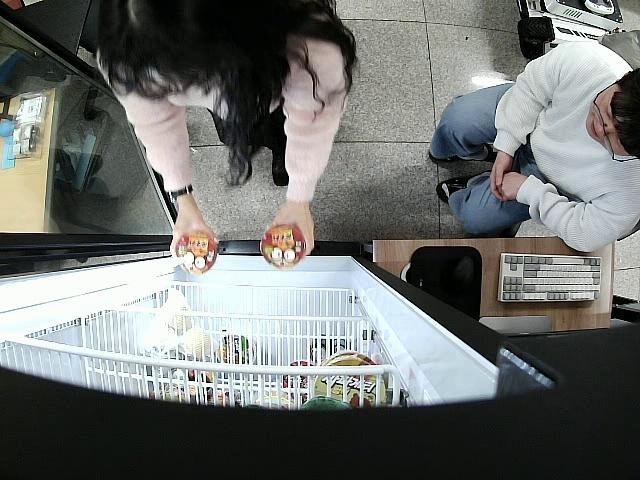06_nuguri_S: (260, 224, 306, 269), (176, 232, 217, 273)
